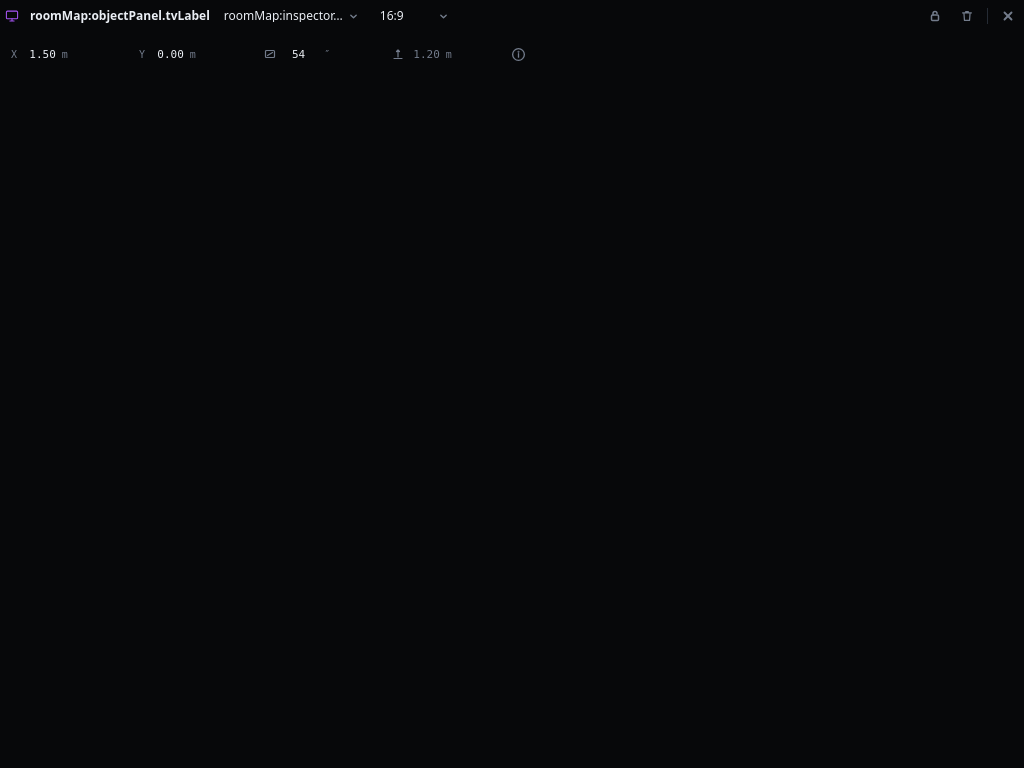
Test: TvAnchorInspector mount height › recomputes the placeholder from the room height, and says so behind its ⓘ
Step 1. Click the button named "common:hintFor {\"label\":\"roomMap:inspector.tvMountHeightLabe" → (518, 54), box [502,38,534,70]
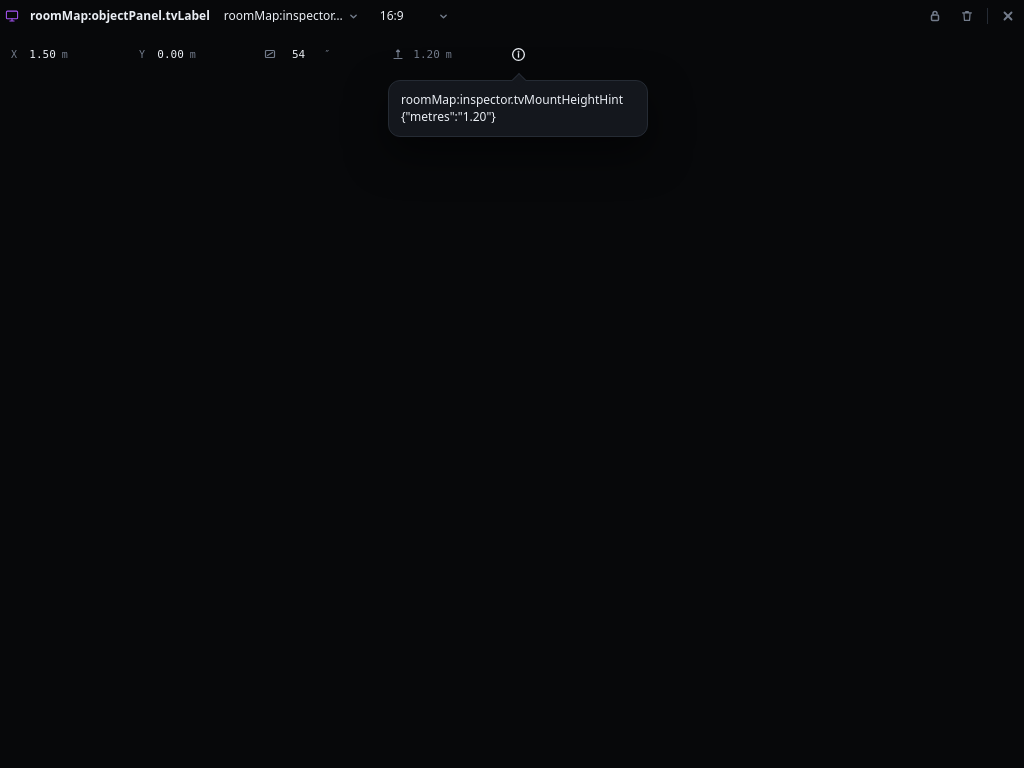
Now the text "roomMap:inspector.tvMountHeightHint {\"metres\":\"1.20\"}" shows "\"metres\":\"1.20\"", box [401,91,623,125]
